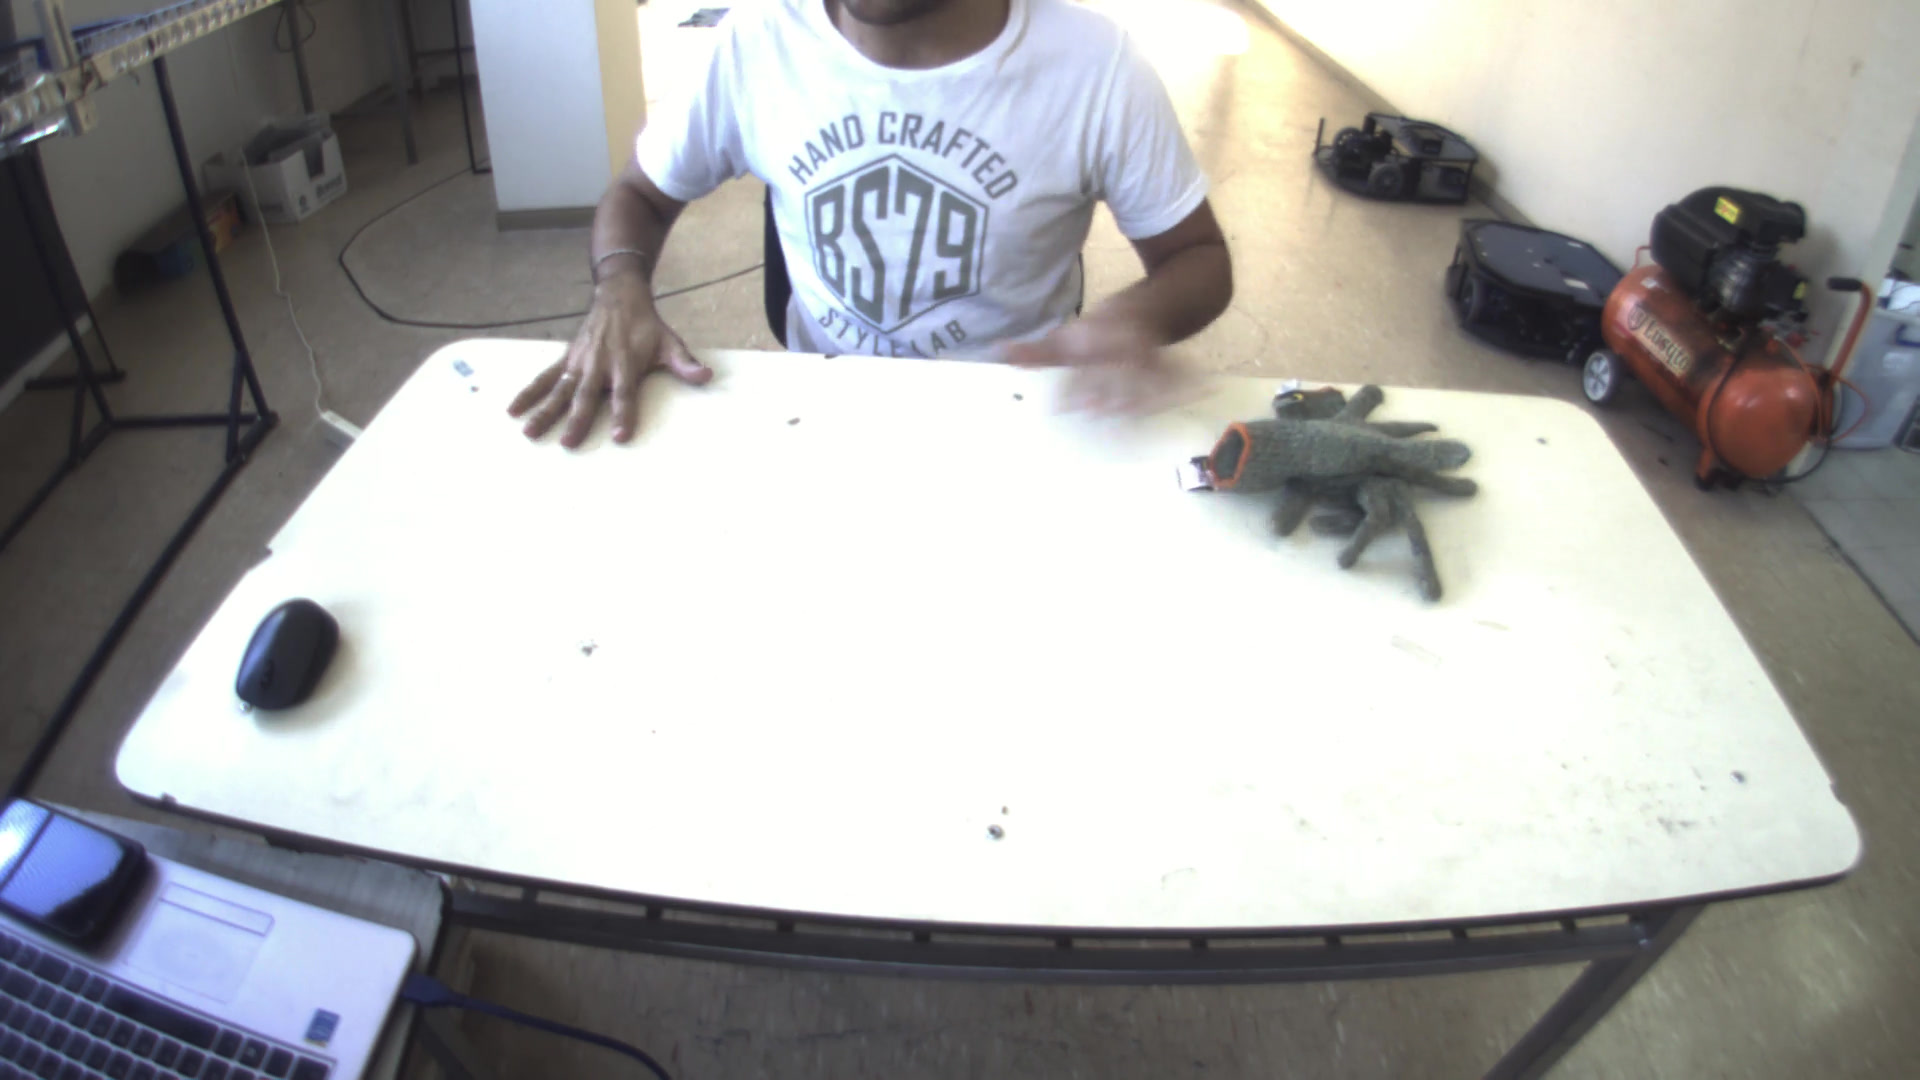hand: (485, 261, 712, 458)
